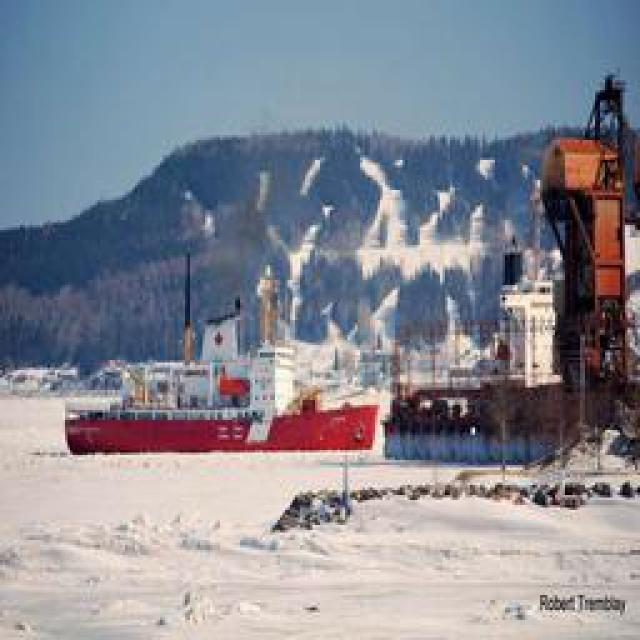Ship: (65, 304, 385, 458)
